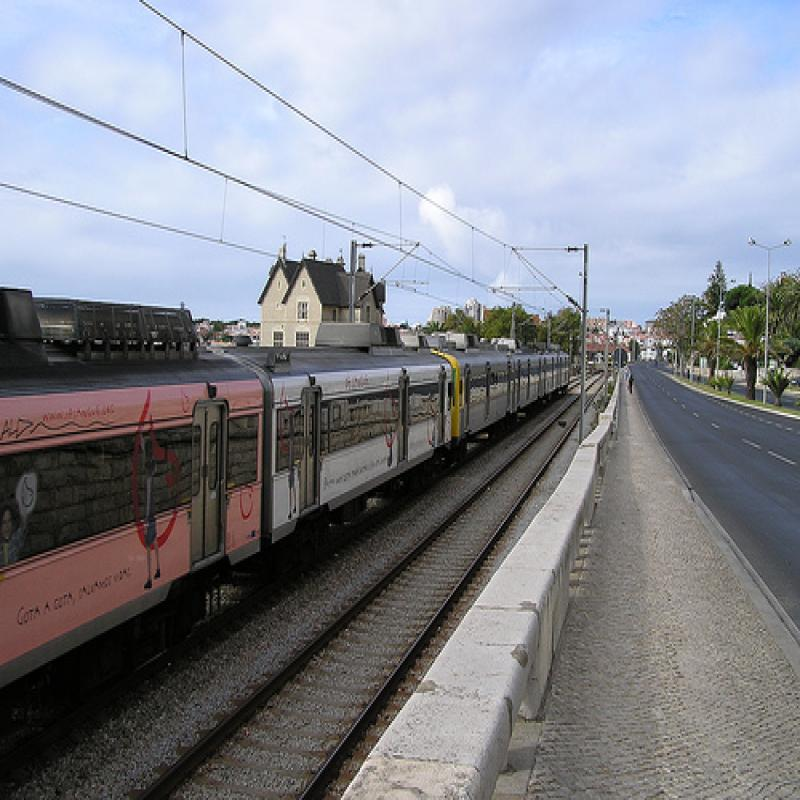train: (1, 288, 574, 741)
